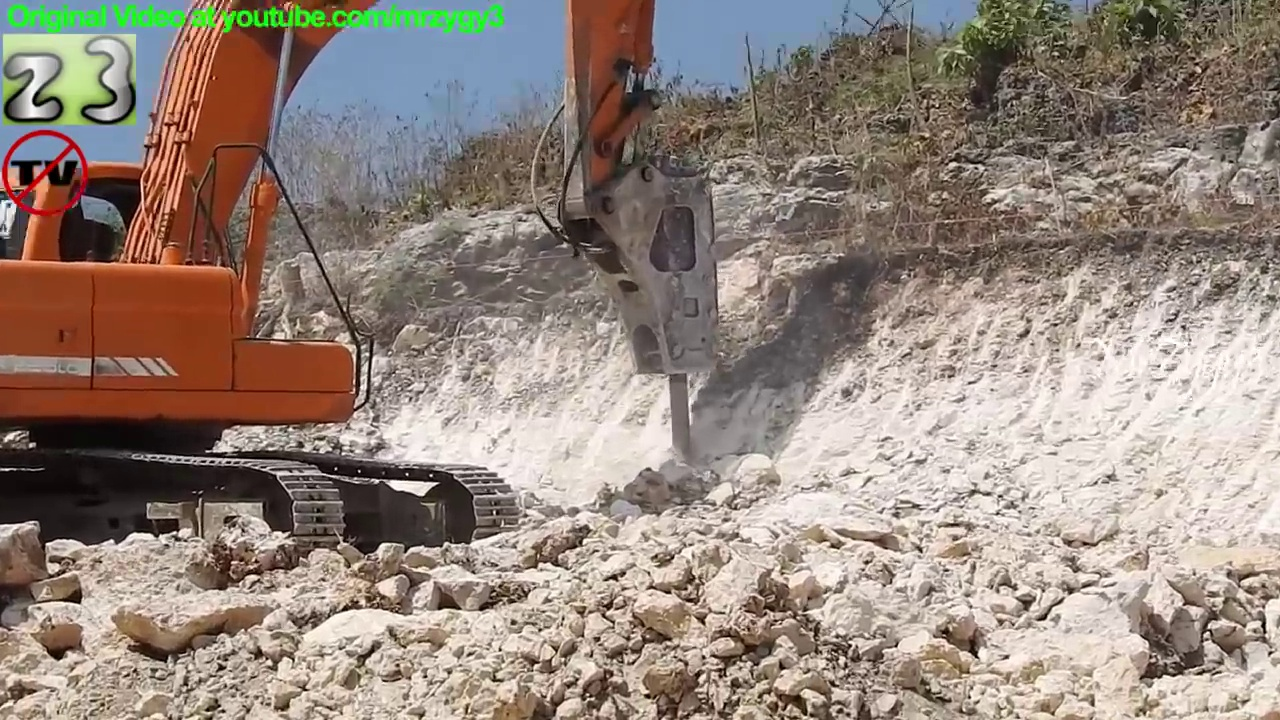excavator: (1, 1, 733, 564)
